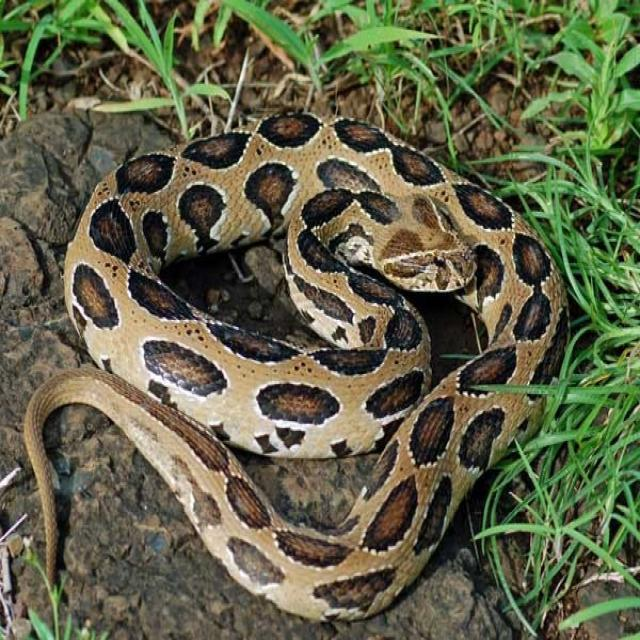Snake: (22, 108, 570, 624)
